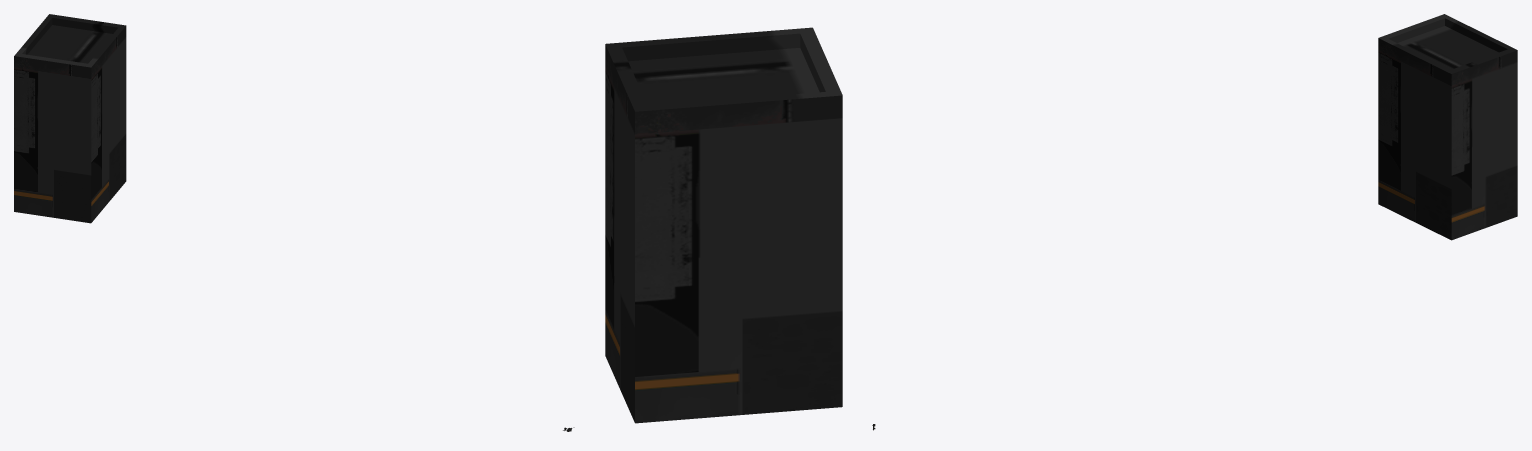
The model's file is BATTLE.fbx.
The picture shows the model from 3 angles, left to right: view 1: azimuth 30°, elevation 25°; view 2: azimuth 150°, elevation 25°; view 3: azimuth 270°, elevation 25°; orthographic projection. The views are drawn at different scales.
Visible parts, largest first — view 1: Shadow (1); view 2: Shadow (1); view 3: Shadow (1).
Boxes of the visible parts, box(x1,y1,x2,y2) form: Shadow (1): box(14, 14, 126, 223); Shadow (1): box(605, 27, 842, 423); Shadow (1): box(1378, 14, 1517, 240).
Bounding box in the file's own units: 9.51 × 7.81 × 16.97.
